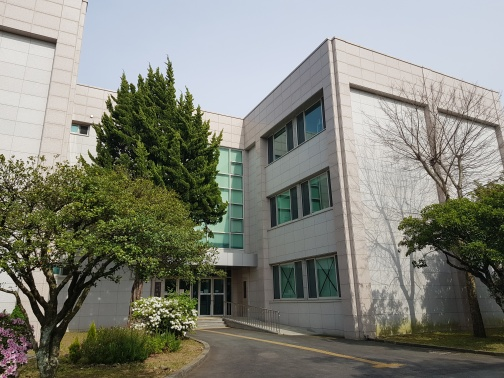College of Nursing: (17, 28, 491, 330)
